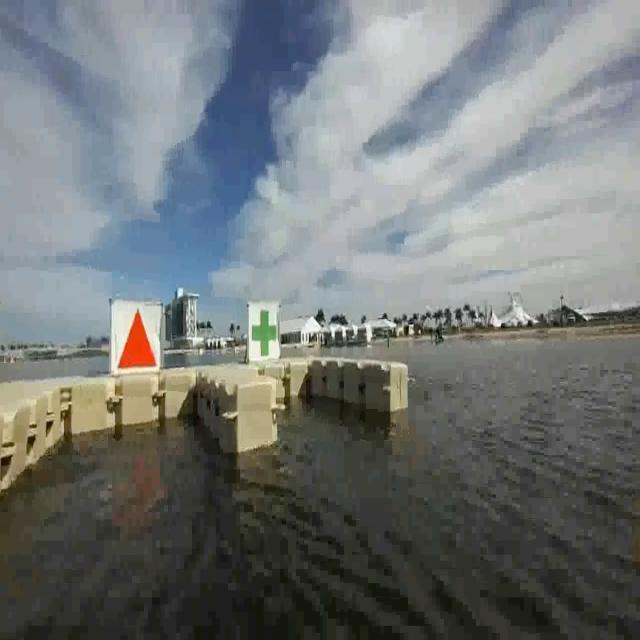blue-cross: (250, 301, 278, 359)
red-dot: (114, 302, 158, 378)
